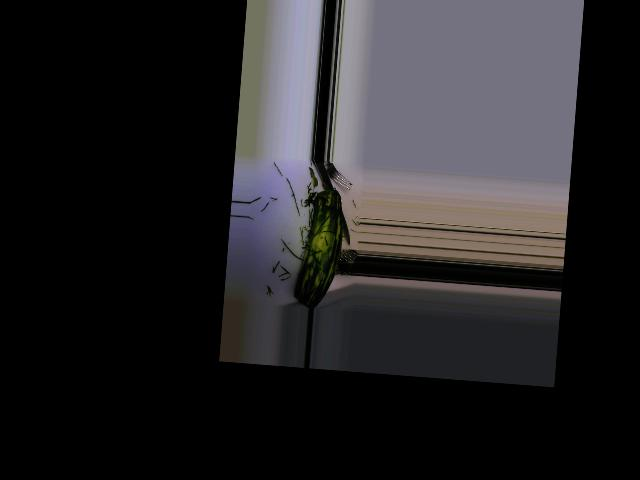cucumber: (292, 186, 345, 309)
